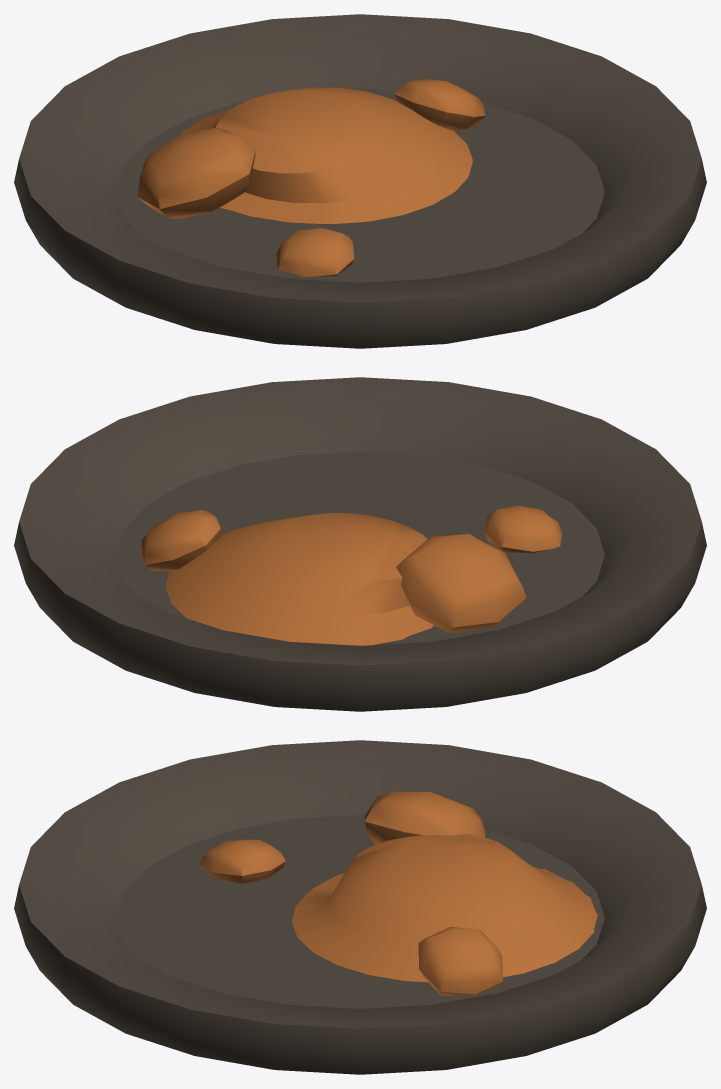
The model's file is plateHalf.obj.
3 renders of one model, top to bottom at view 1: azimuth 30°, elevation 25°; view 2: azimuth 150°, elevation 25°; view 3: azimuth 270°, elevation 25°, orthographic.
Parts seen in each view (by area): view 1: plateHalf_Cylinder.253; view 2: plateHalf_Cylinder.253; view 3: plateHalf_Cylinder.253.
Part boxes in pixels (<box>): plateHalf_Cylinder.253: <box>14,14,706,348</box>; plateHalf_Cylinder.253: <box>14,377,706,711</box>; plateHalf_Cylinder.253: <box>14,740,706,1074</box>.
Bounding box in the file's own units: 0.6587 × 0.1078 × 0.6587.
